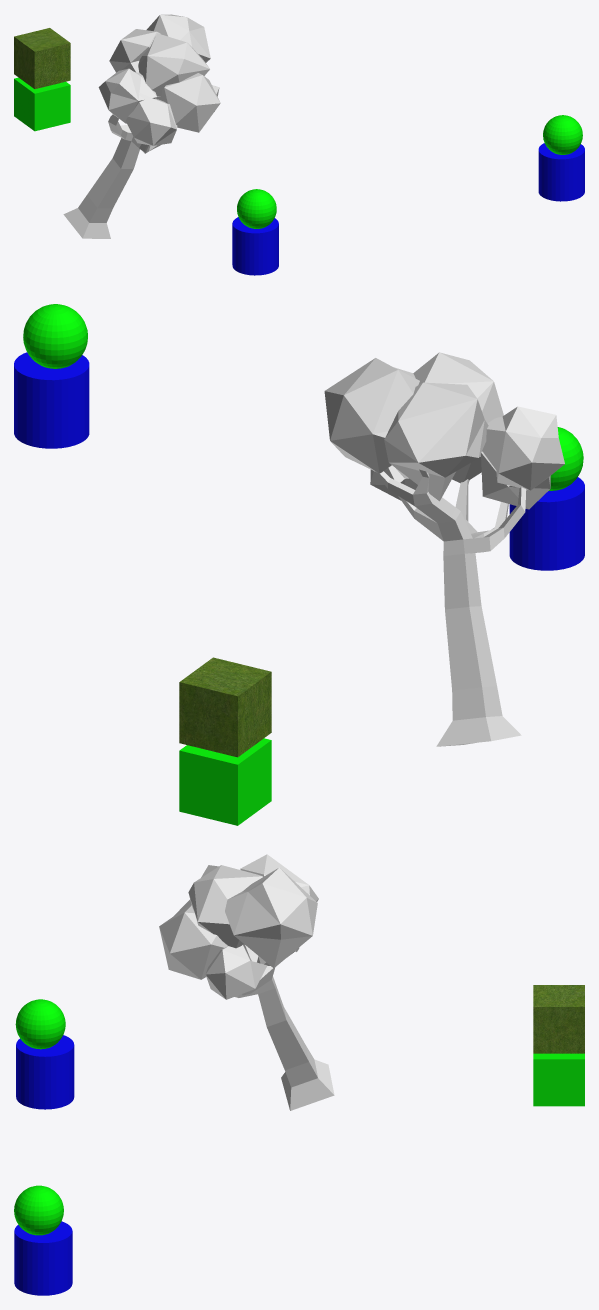
File: blend-test-new-no-plane.glb
The picture shows the model from 3 angles, top to bottom: view 1: azimuth 30°, elevation 25°; view 2: azimuth 150°, elevation 25°; view 3: azimuth 270°, elevation 25°; orthographic projection. The views are drawn at different scales.
Parts seen in each view (by area): view 1: obj-5, obj-1, obj-4, obj-3; view 2: obj-5, obj-1, obj-3, obj-4; view 3: obj-5, obj-1, obj-4, obj-3.
Boxes of the visible parts, box(x1,y1,x2,y2) form: obj-5: box(63, 14, 220, 238); obj-1: box(14, 28, 70, 131); obj-4: box(232, 189, 278, 275); obj-3: box(538, 115, 584, 201); obj-5: box(324, 352, 564, 746); obj-1: box(179, 657, 271, 825); obj-3: box(14, 304, 89, 448); obj-4: box(509, 427, 584, 570); obj-5: box(159, 854, 334, 1110); obj-1: box(533, 985, 584, 1106); obj-4: box(15, 999, 74, 1109); obj-3: box(14, 1185, 72, 1295).
Bounding box in the file's own units: 9.5 × 4.86 × 9.29.
Materials: 5 (1 with a texture image).
